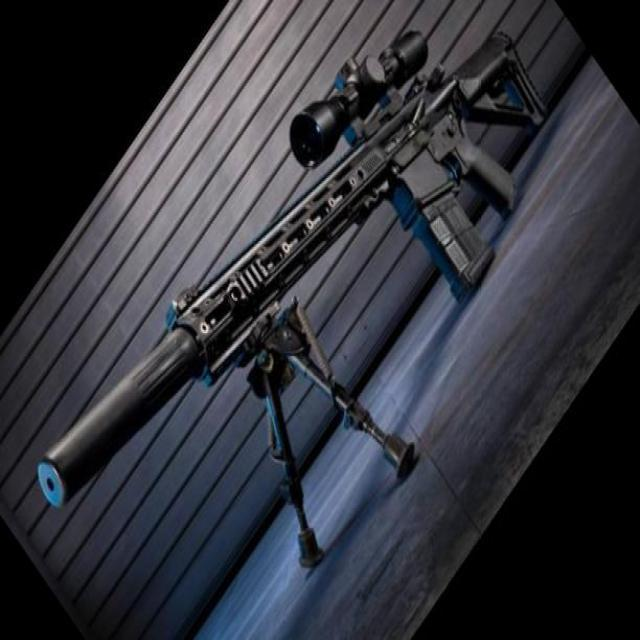weapon: (38, 28, 548, 569)
